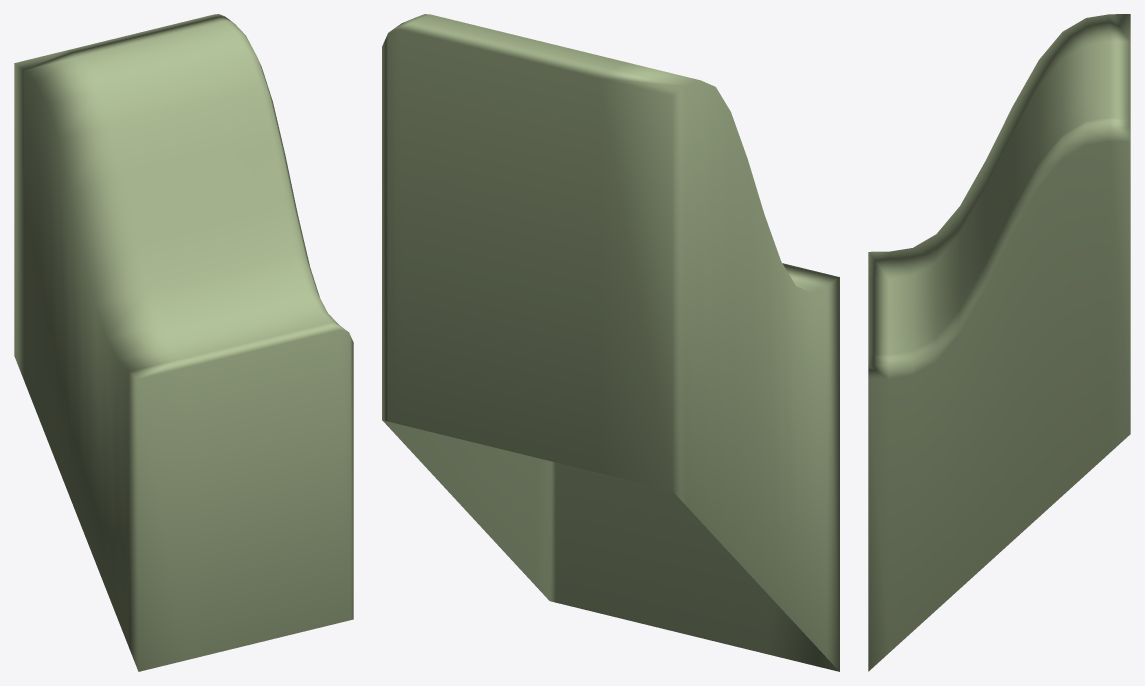
The model's file is ground-ramp-r-20.glb.
3 views of the same model, side by side, from view 1: azimuth 30°, elevation 25°; view 2: azimuth 150°, elevation 25°; view 3: azimuth 270°, elevation 25° (orthographic). The views are drawn at different scales.
Visible parts, largest first — view 1: ground-ramp-r-20; view 2: ground-ramp-r-20; view 3: ground-ramp-r-20.
Boxes of the visible parts, box(x1,y1,x2,y2) form: ground-ramp-r-20: box(14, 14, 353, 671); ground-ramp-r-20: box(382, 14, 839, 671); ground-ramp-r-20: box(868, 14, 1130, 671).
Bounding box in the file's own units: 1 × 2.3 × 1.
